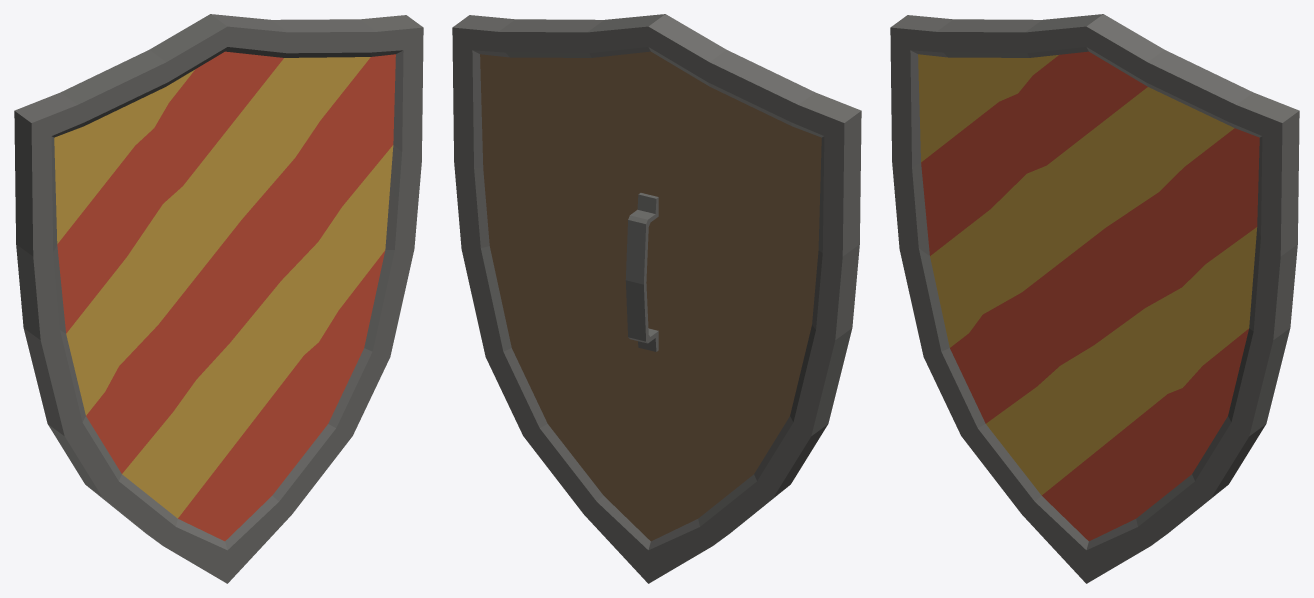
Rendered from SM_pwe_medieval_shield_04c.fbx.
3 renders of one model, left to right at view 1: azimuth 30°, elevation 25°; view 2: azimuth 150°, elevation 25°; view 3: azimuth 330°, elevation 25°, orthographic.
Parts seen in each view (by area): view 1: SM_pwe_medieval_shield_04c; view 2: SM_pwe_medieval_shield_04c; view 3: SM_pwe_medieval_shield_04c.
Part boxes in pixels (left/top/right/bottom): SM_pwe_medieval_shield_04c: left=14, top=14, right=423, bottom=583; SM_pwe_medieval_shield_04c: left=452, top=14, right=861, bottom=583; SM_pwe_medieval_shield_04c: left=890, top=14, right=1299, bottom=583.
Size of the model in its own units: 58.64 by 79.67 by 7.67.
